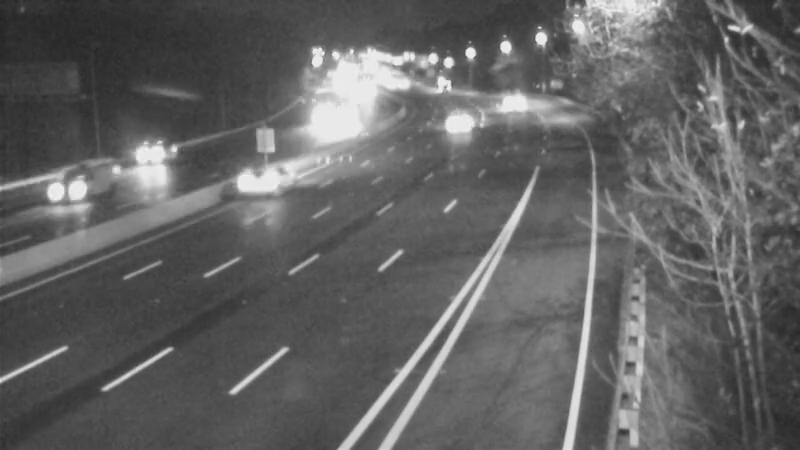vehicle: (212, 145, 292, 225), (34, 147, 114, 227), (99, 121, 179, 201), (416, 62, 466, 112), (483, 82, 533, 132), (424, 111, 474, 161)
